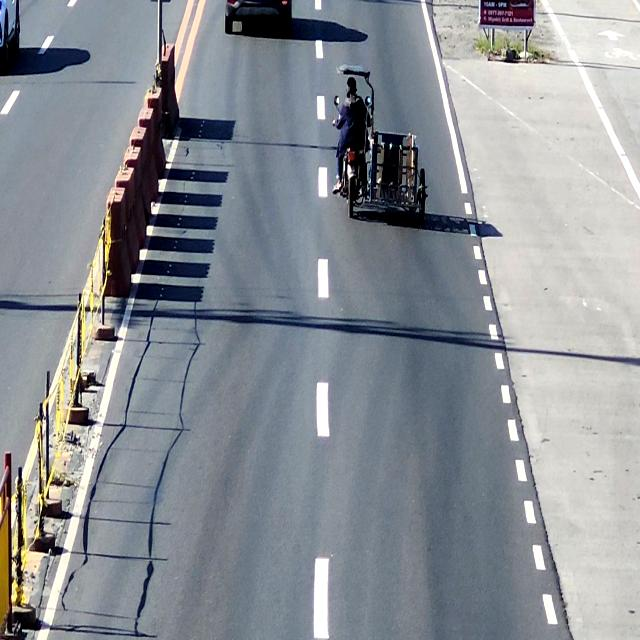Car: (221, 0, 296, 44)
Tricycle: (333, 64, 429, 224)
